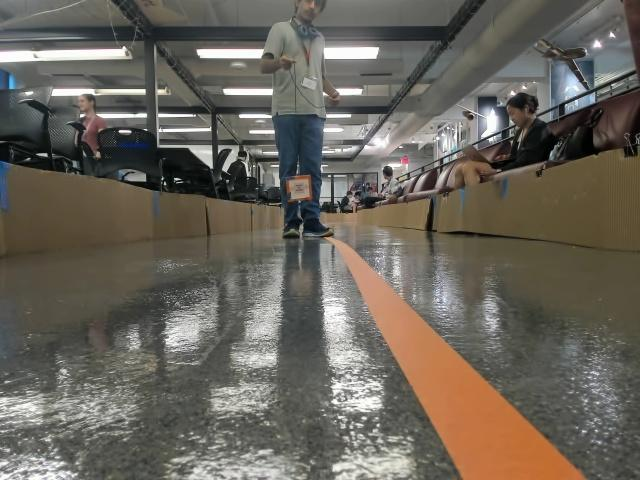Do Not Go Around: (290, 182, 307, 193)
